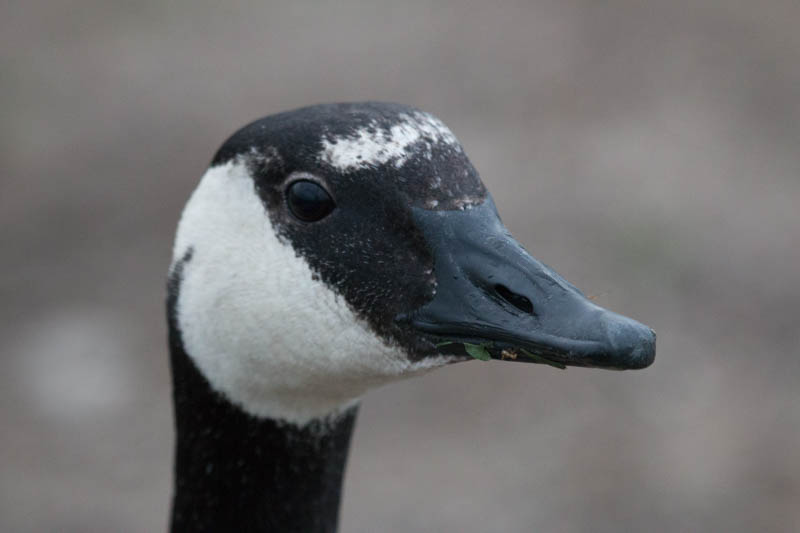goose-head: (164, 100, 658, 439)
